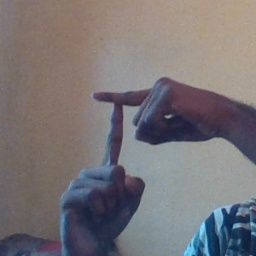T: (72, 74, 171, 189)
